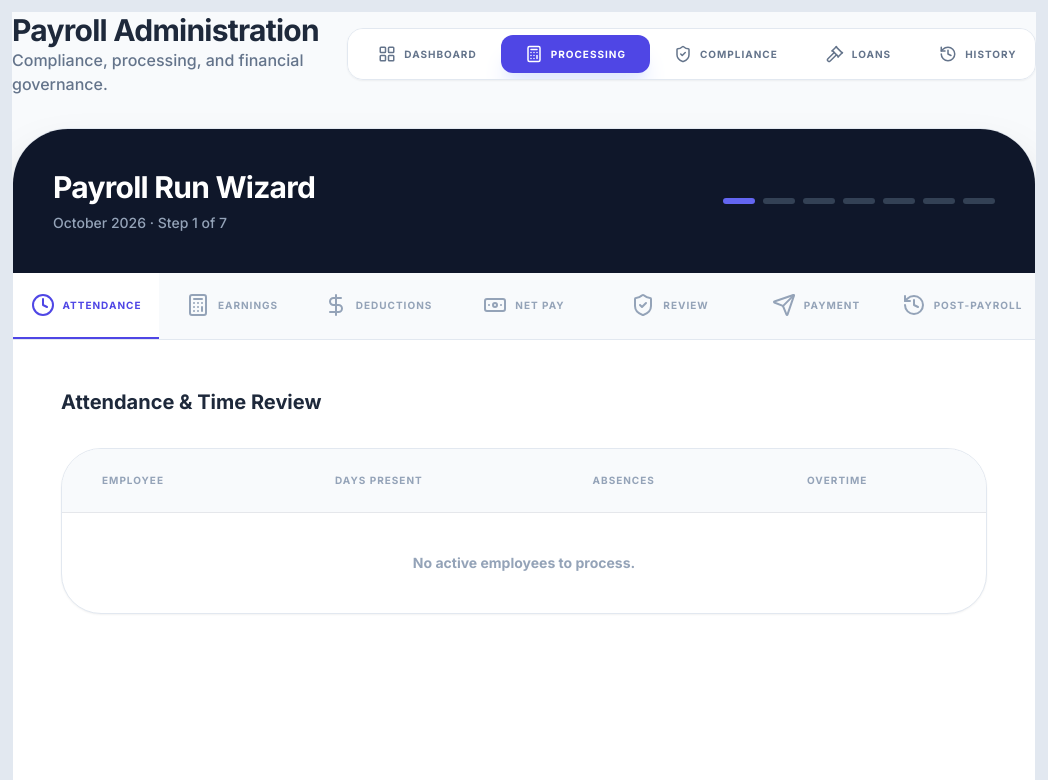
Payroll Run Wizard › tells the user payment is still pending on the Post-Payroll step until the run is actually paid
The width and height of the screenshot is (1048, 780).
Click the button "Post-Payroll": (962, 306) 889,273 -> 1035,339
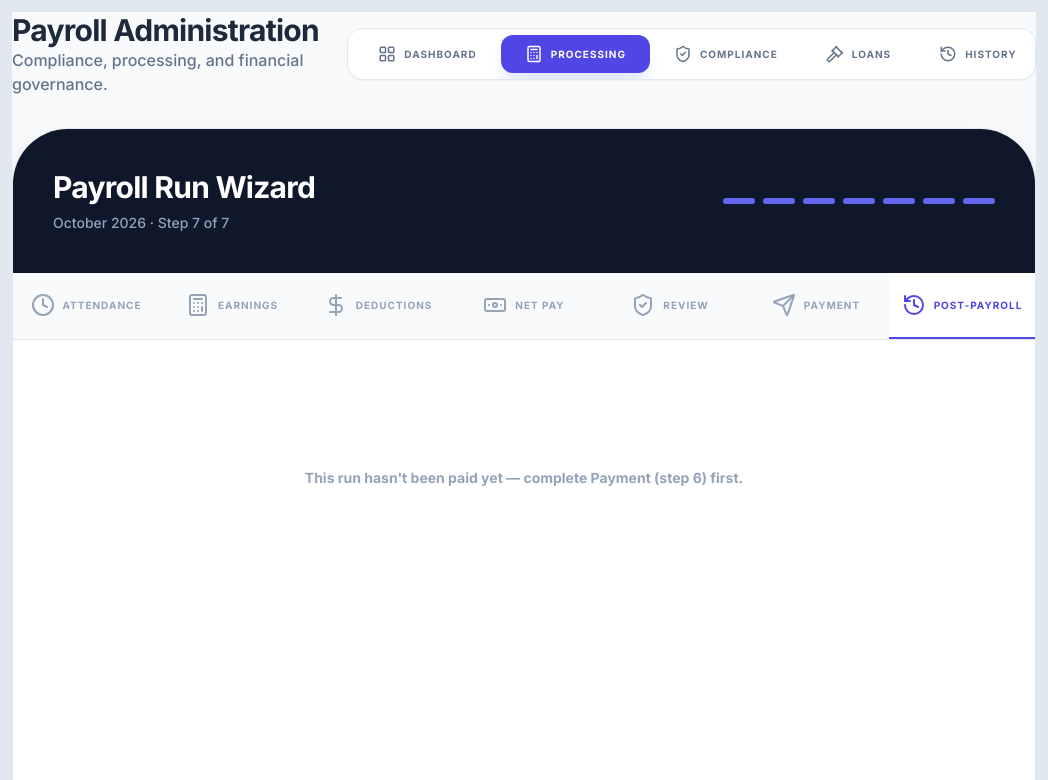
Expected: the text "hasn't been paid yet — complete Payment (step 6) first" is shown, 305,469 -> 743,486
